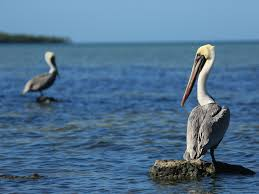pelican: (181, 44, 229, 173), (20, 51, 60, 103)
